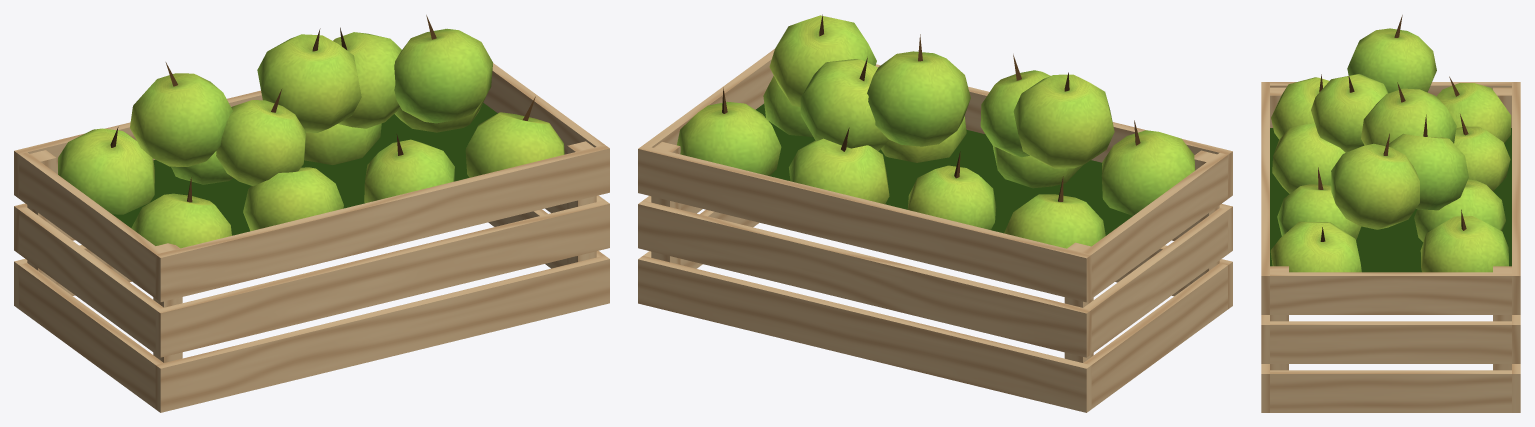
File: Prop_FruitCrate_Green.fbx
The picture shows the model from 3 angles, left to right: view 1: azimuth 30°, elevation 25°; view 2: azimuth 150°, elevation 25°; view 3: azimuth 270°, elevation 25°; orthographic projection. The views are drawn at different scales.
Visible parts, largest first — view 1: Prop_FruitCrate_Green_LOD0; view 2: Prop_FruitCrate_Green_LOD0; view 3: Prop_FruitCrate_Green_LOD0.
Boxes of the visible parts, <box> form: Prop_FruitCrate_Green_LOD0: <box>14,15,609,412</box>; Prop_FruitCrate_Green_LOD0: <box>638,14,1232,412</box>; Prop_FruitCrate_Green_LOD0: <box>1261,15,1520,412</box>.
Size of what is drawn, in the model's own units: 0.85 by 0.4936 by 0.48.
Materials: 1 (1 with a texture image).
